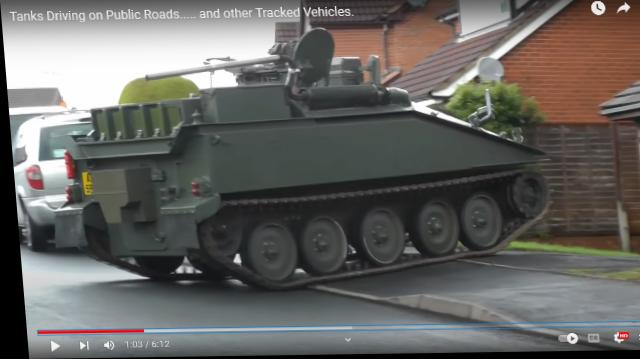tank: (66, 78, 540, 270)
